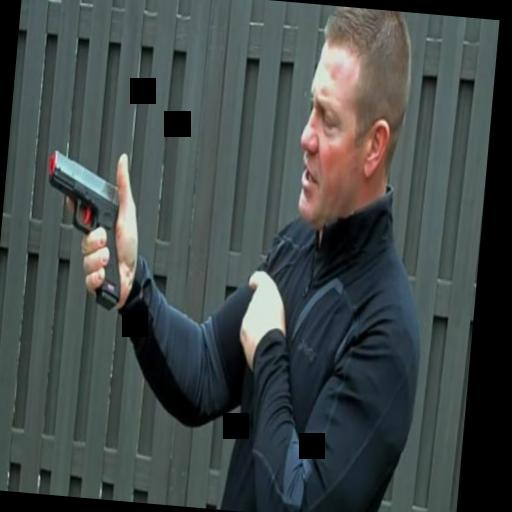Handgun: (34, 146, 138, 308)
